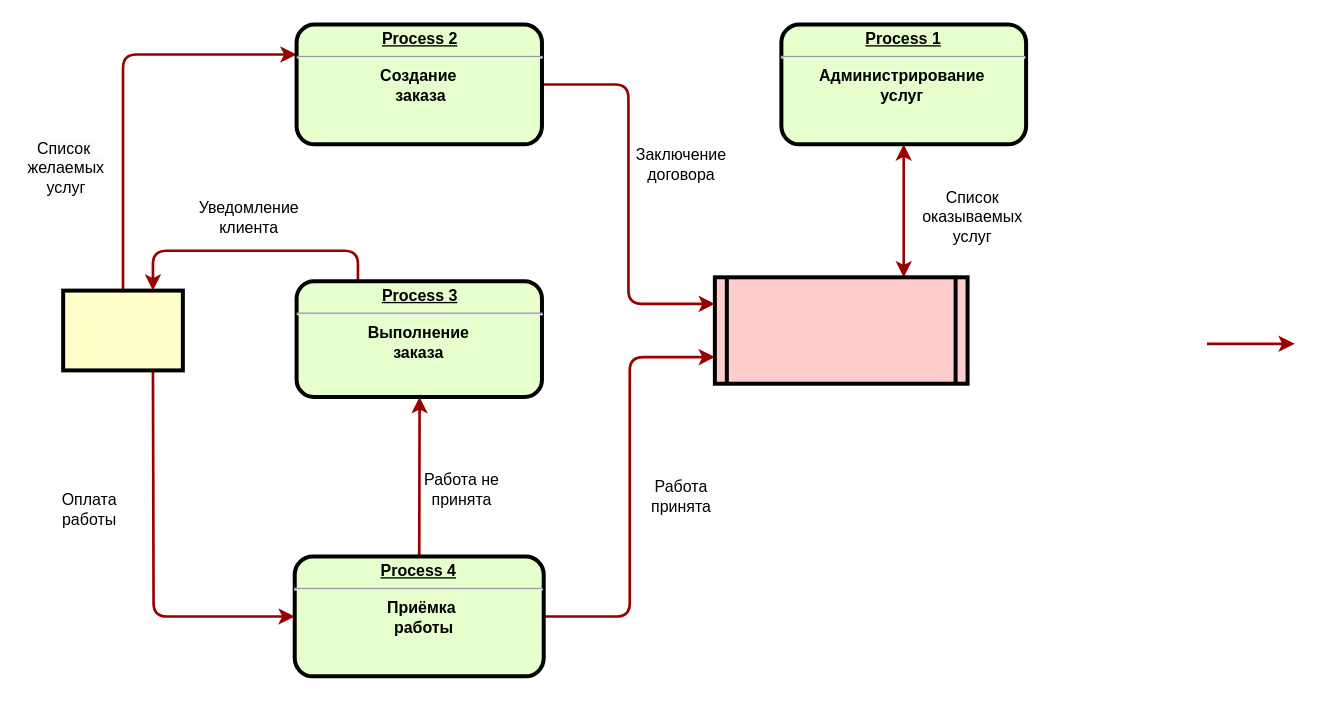
The diagram is 1329 pixels wide and 701 high, and some of its shapes have lost their labels. The centre of each missing label's shape, as x and y in pixels:
БД.Детейлинг центр: the point at 840,330
Клиент: the point at 122,330
